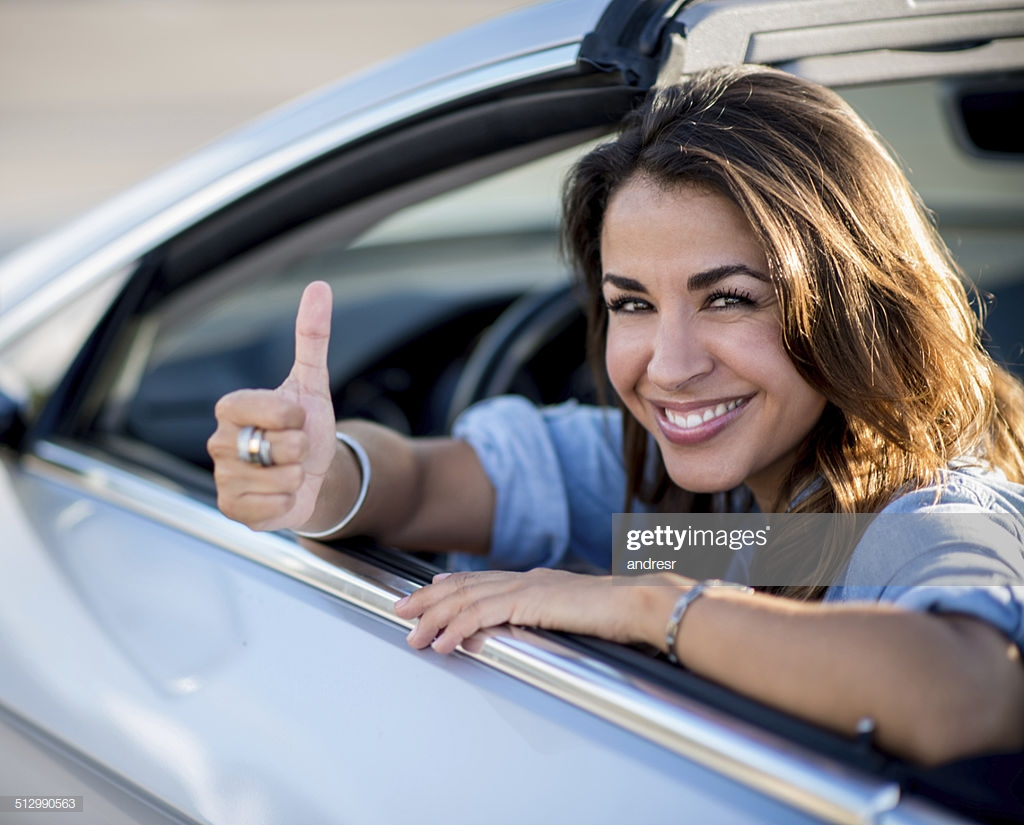thumbsup: (205, 279, 334, 523)
